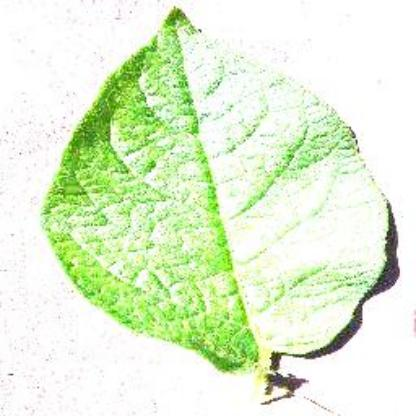Healthy-plant: (35, 7, 404, 405)
